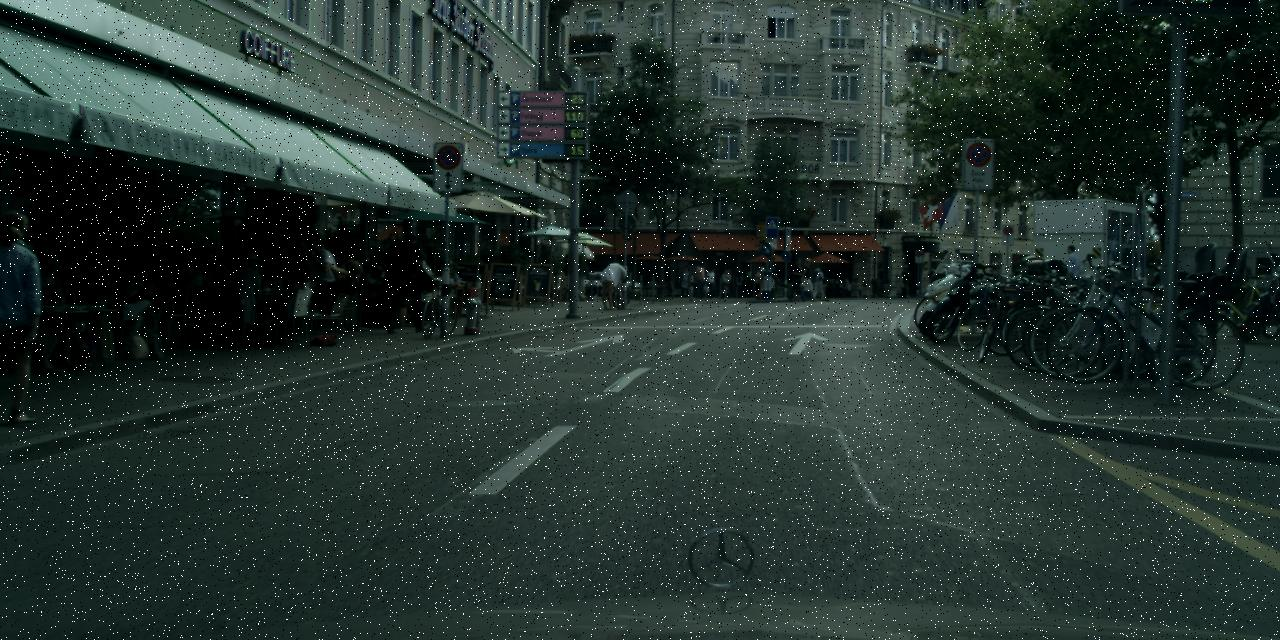ped: (0, 210, 50, 424), (387, 232, 427, 330), (300, 233, 338, 325), (282, 234, 320, 325), (1058, 245, 1083, 307), (799, 258, 816, 300), (789, 258, 806, 300), (764, 258, 780, 298), (692, 261, 708, 299), (755, 262, 770, 299), (678, 264, 691, 298), (705, 267, 717, 298), (811, 268, 823, 298), (731, 268, 742, 298)
